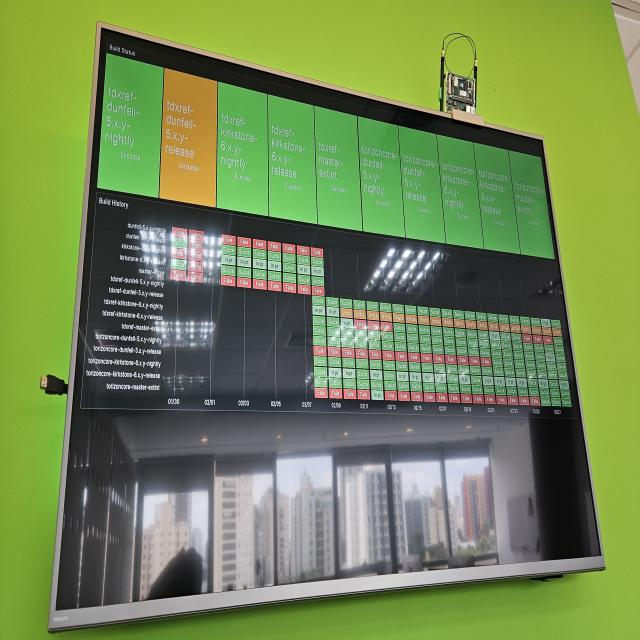som: (444, 74, 478, 101)
